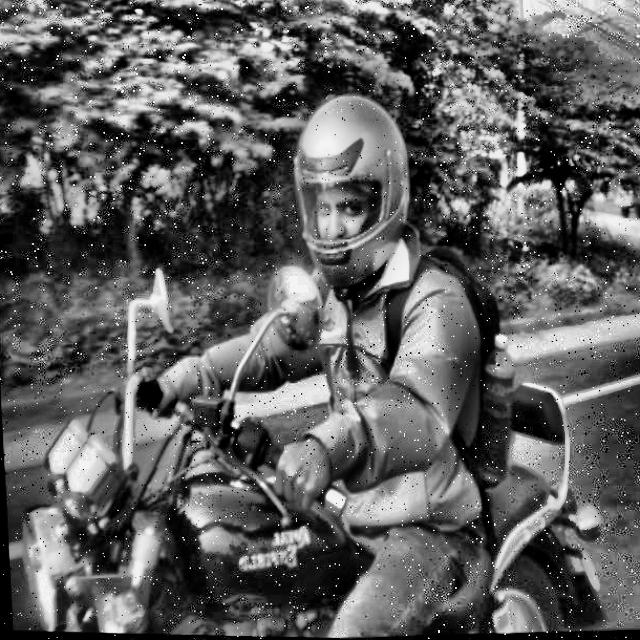Helmet: (287, 87, 421, 306)
